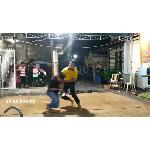Celurit: (56, 87, 68, 101)
